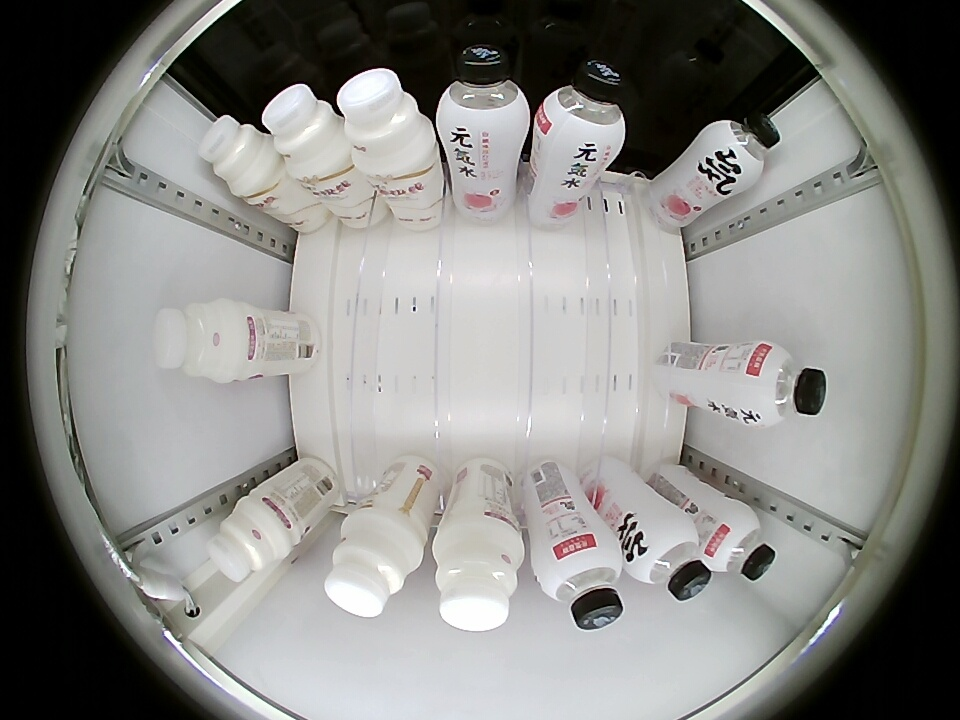yingyangkuaixian: (324, 510, 425, 618), (431, 519, 525, 632), (337, 69, 437, 173), (152, 298, 250, 384), (262, 84, 351, 178), (208, 494, 293, 582), (199, 114, 278, 198)
yuanqishui: (533, 59, 629, 163), (436, 42, 531, 145), (530, 530, 626, 630), (736, 342, 827, 428), (625, 515, 711, 601), (702, 109, 782, 189), (702, 504, 777, 581)
